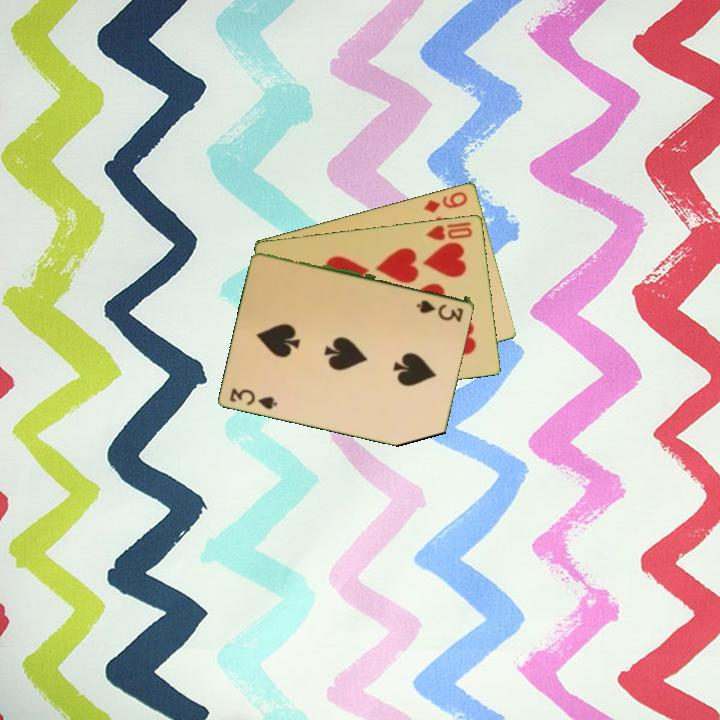10h: (422, 218, 475, 243)
3s: (226, 384, 280, 412), (413, 296, 467, 321)
9d: (420, 187, 470, 215)
